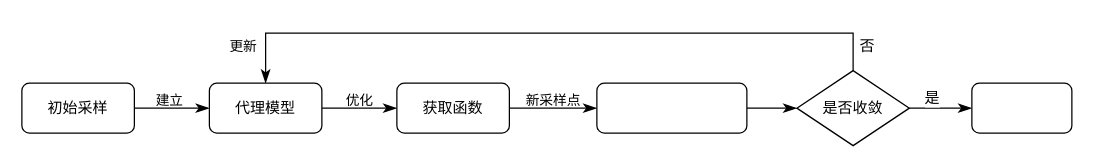
This 1094x168 diagram has some shape labels left out. The shapes that lost their labels are listed below. From the top down, each one's centre as x and y in pixels, then its label:
At pixel 671 107: "在目标函数上 重新评估".
At pixel 1021 107: "最优解".
